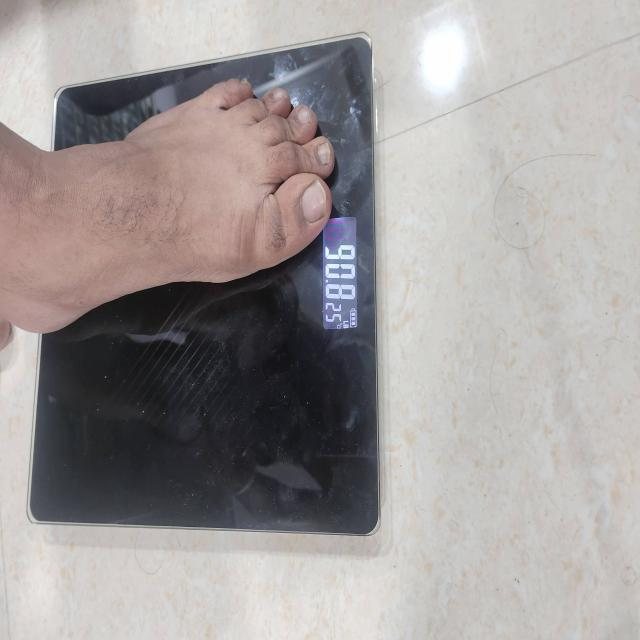ws: (38, 37, 378, 536)
